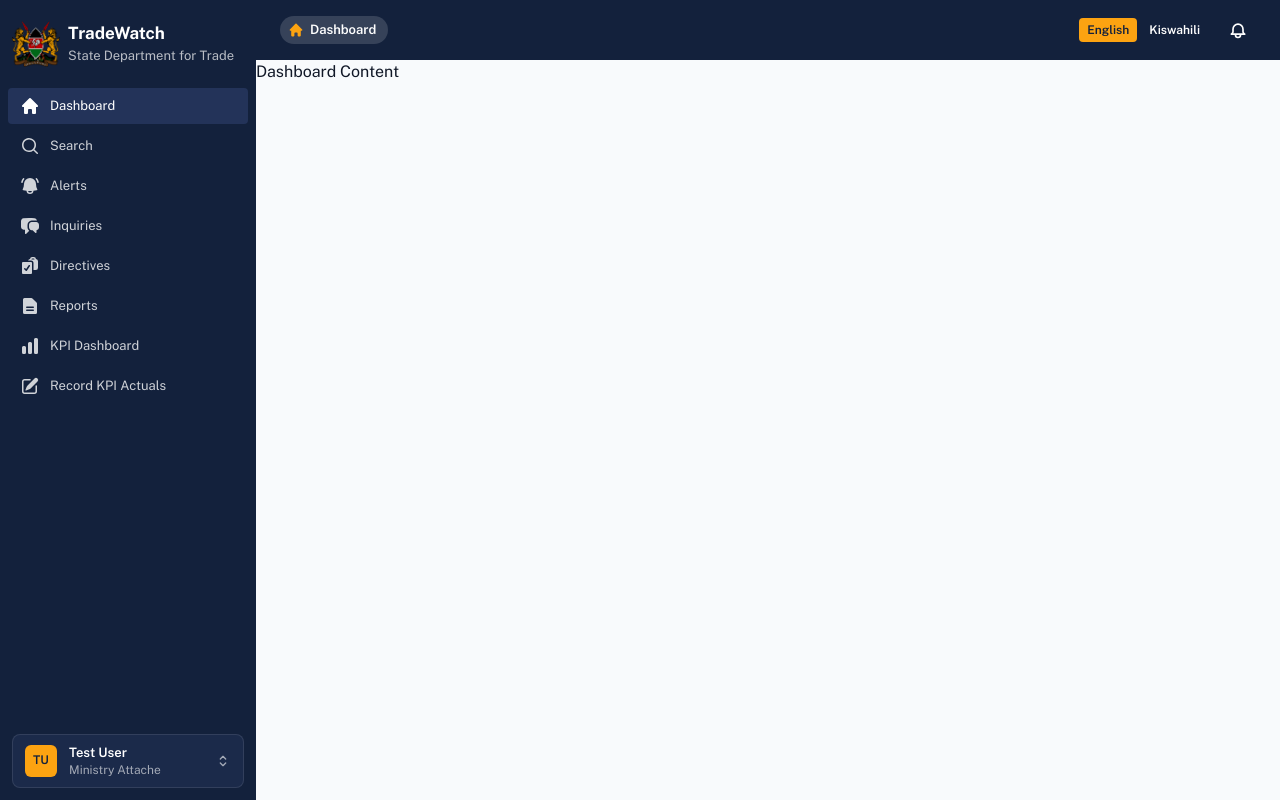
it: AppLayout › TC-FR-I18N-002: clicking the language toggle switches displayed strings
Expected: the link "Dashboard" is shown, [8,88,248,124]
Click the button "Kiswahili". click: (1175, 30)
box: [1141,18,1208,42]
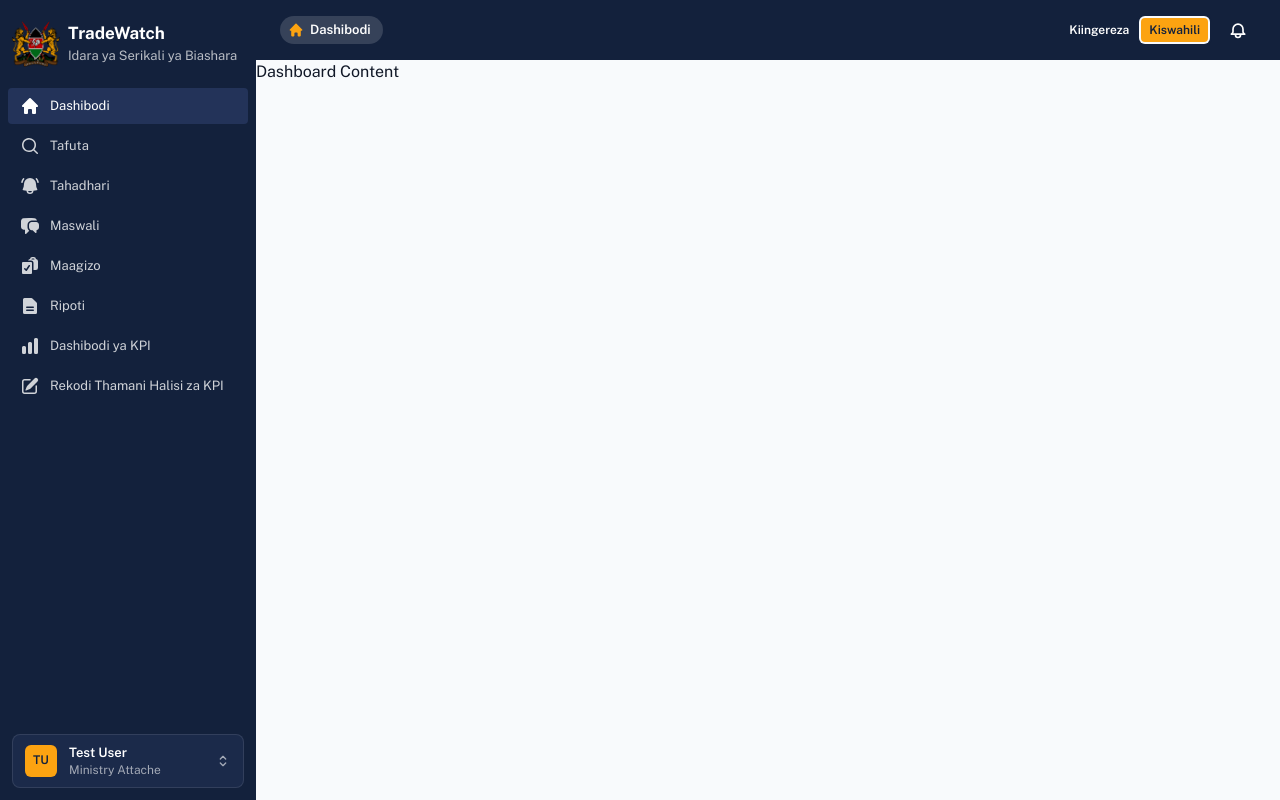
Result: the link "Dashibodi" is shown at [8,88,248,124]
